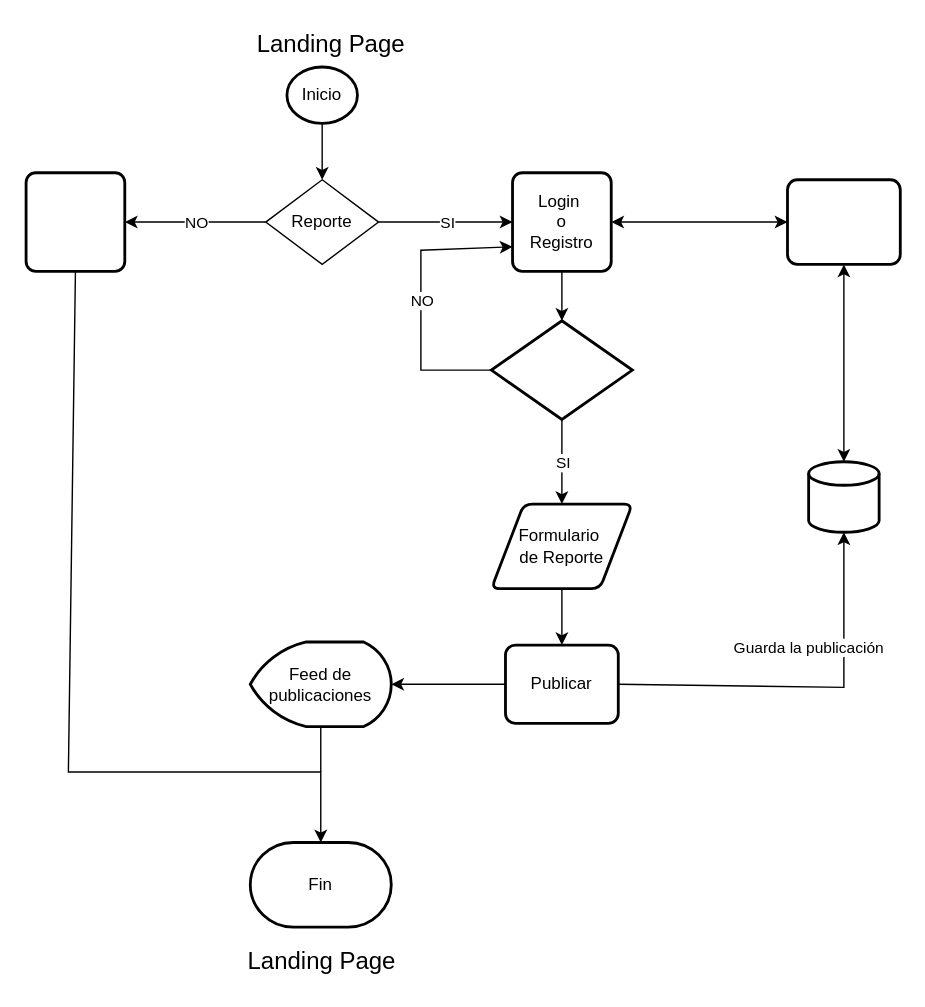
The diagram is 925 pixels wide and 1007 high, and some of its shapes have lost their labels. Each missing label, with the box of its shape:
Autenticación: (785, 178, 901, 265)
DB: (807, 460, 880, 533)
Navegar: (24, 171, 125, 272)
Validación: (489, 319, 633, 420)
